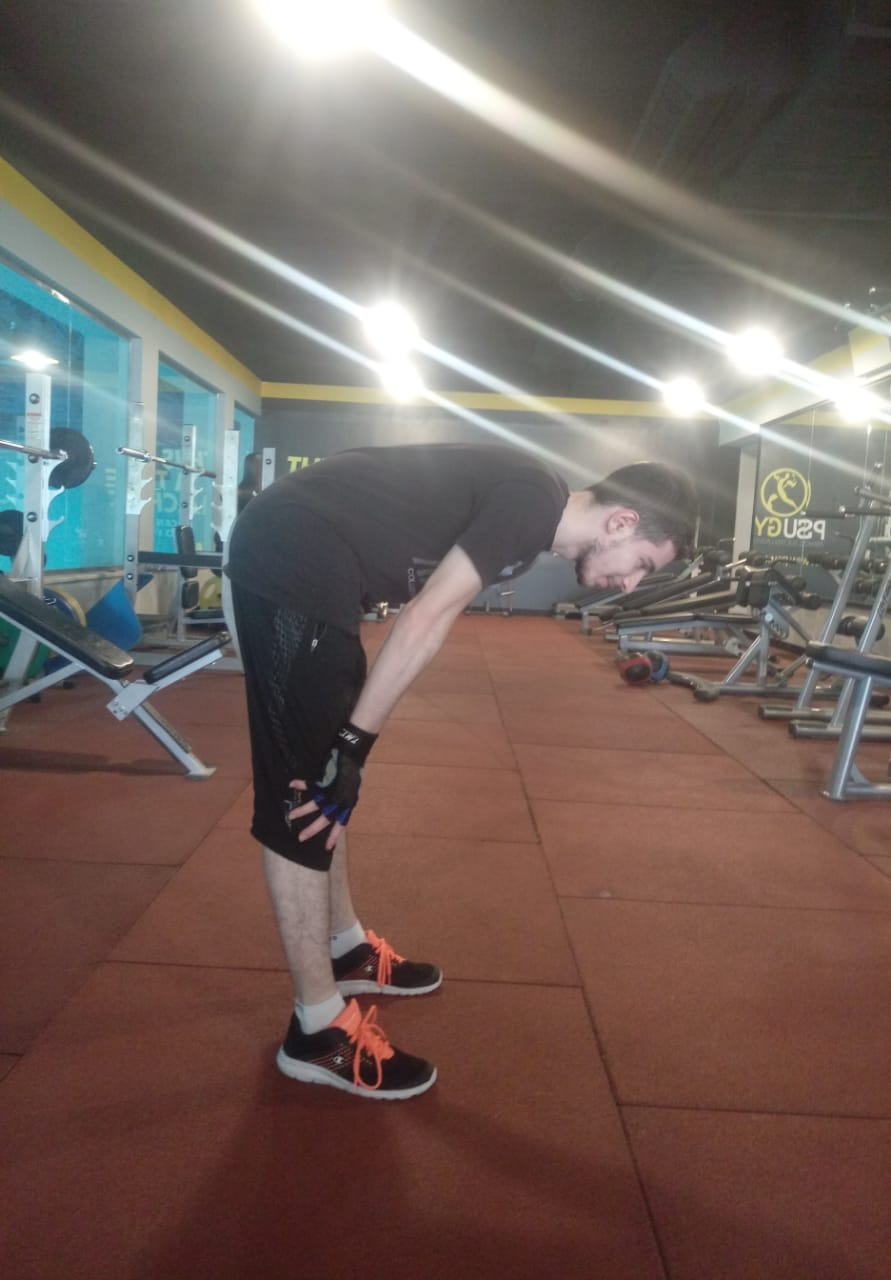ruku: (198, 419, 705, 1123)
